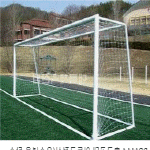goals: (10, 13, 138, 141)
